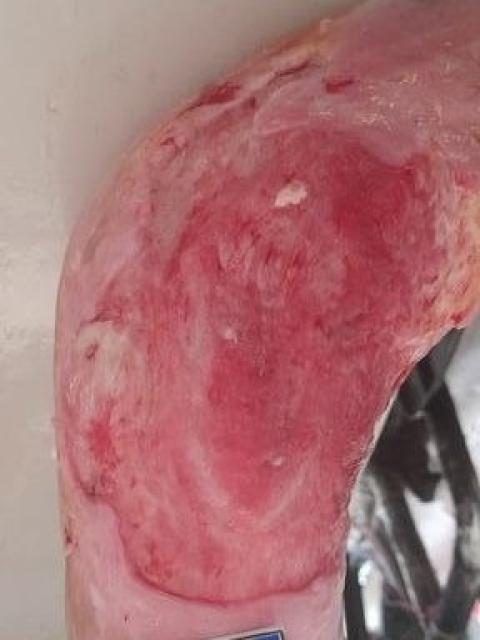wound: (62, 53, 473, 606)
